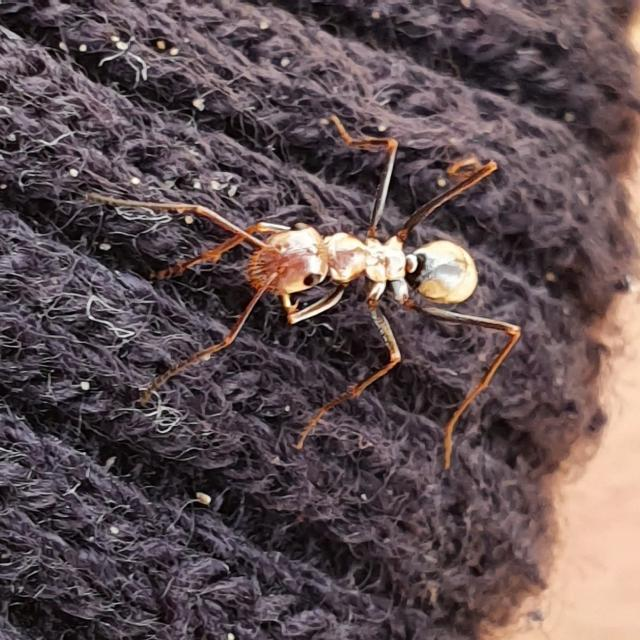Cataglyphis: (223, 174, 527, 350)
